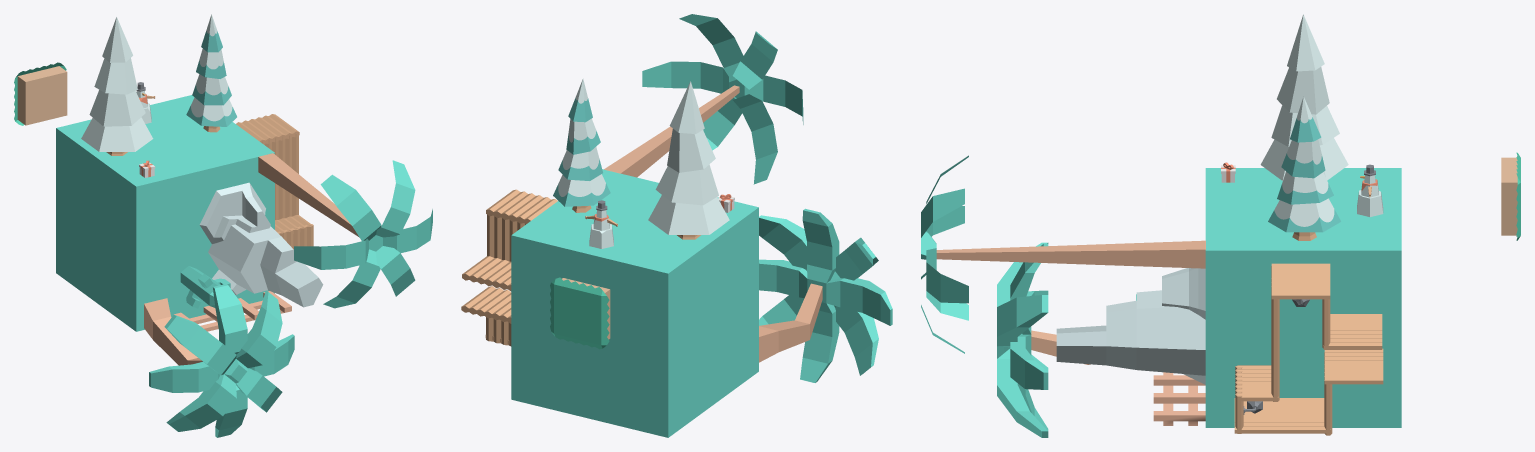
File: test-world.fbx
The picture shows the model from 3 angles, left to right: view 1: azimuth 30°, elevation 25°; view 2: azimuth 150°, elevation 25°; view 3: azimuth 270°, elevation 25°; orthographic projection. The views are drawn at different scales.
Parts seen in each view (by area): view 1: statue_obelisk1; view 2: statue_obelisk1; view 3: statue_obelisk1.
Part boxes in pixels (<box>): statue_obelisk1: <box>14,14,432,437</box>; statue_obelisk1: <box>461,14,892,437</box>; statue_obelisk1: <box>921,14,1520,437</box>.
Bounding box in the file's own units: 18.12 × 23.58 × 30.65.
